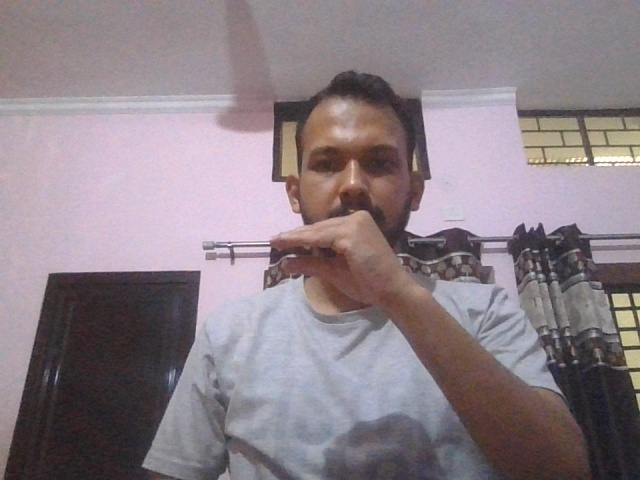no: (269, 209, 425, 299)
